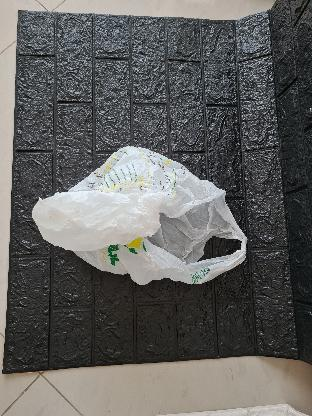Plastic Bag: (32, 146, 248, 286)
